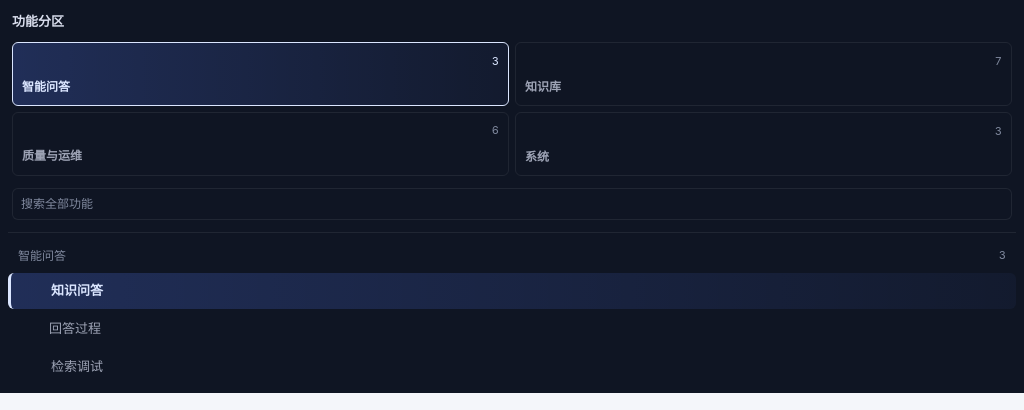
Test: WorkspaceNavigation › offers a keyboard-operable empty-state reset and returns focus to search
Type "没有这个功能" into the search field named "功能搜索" at (512, 204), box [12, 188, 1012, 220]
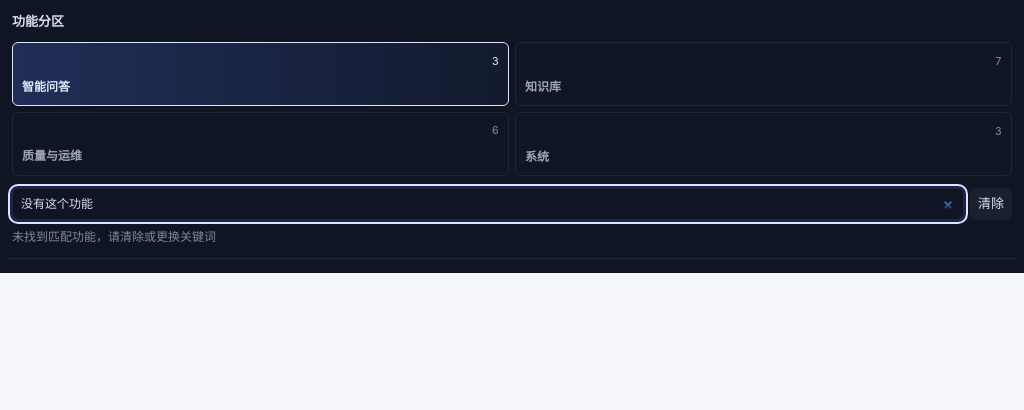
Expected: the message shows "未找到匹配功能", [12, 228, 216, 244]
Expected: no list items are shown
Press Tab
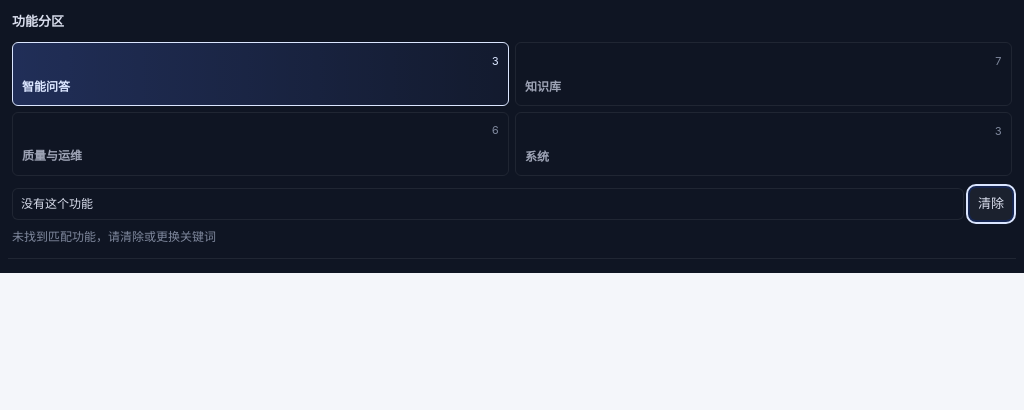
Press Enter
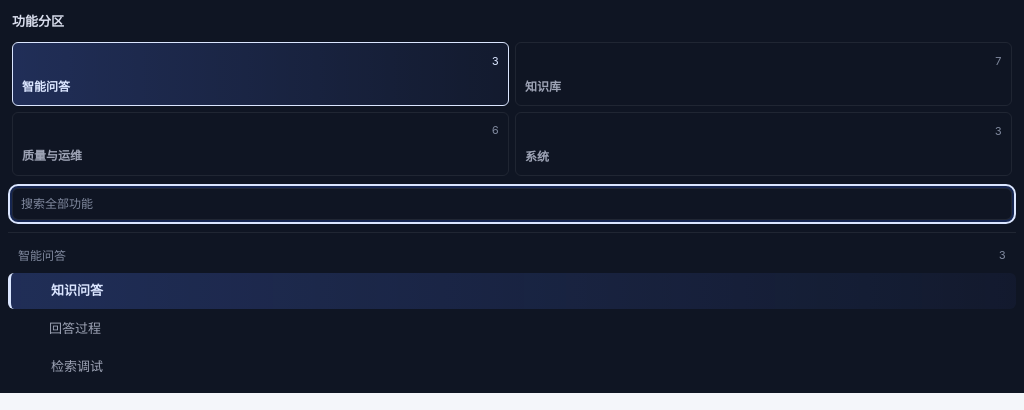
Expected: the search field named "功能搜索" is empty, [12, 188, 1012, 220]
Expected: the message "未找到匹配功能，请清除或更换关键词" is gone
Expected: the button "知识问答" is shown, [8, 272, 1016, 308]
